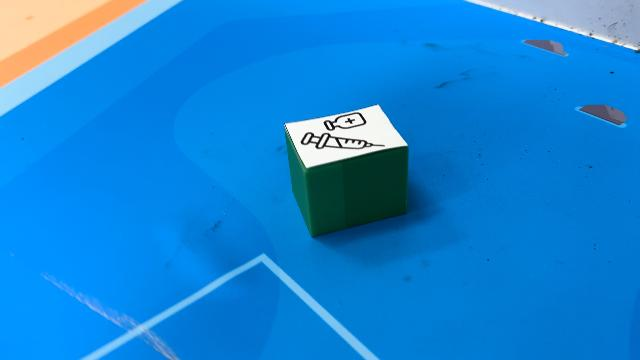syringe: (283, 103, 409, 237)
